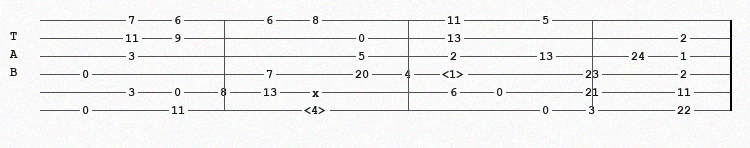0: (82, 68, 93, 80), (82, 104, 93, 116), (174, 86, 185, 98), (358, 32, 369, 44), (496, 86, 507, 98), (542, 104, 553, 116)
1: (680, 50, 691, 62)
11: (125, 32, 143, 44), (171, 104, 189, 116), (447, 14, 465, 26), (677, 86, 695, 98)
13: (263, 86, 281, 98), (447, 32, 465, 44), (539, 50, 557, 62)
2: (450, 50, 461, 62), (680, 32, 691, 44), (680, 68, 691, 80)
20: (355, 68, 373, 80)
21: (585, 86, 603, 98)
22: (677, 104, 695, 116)
23: (585, 68, 603, 80)
24: (631, 50, 649, 62)
3: (128, 86, 139, 98), (128, 50, 139, 62), (588, 104, 599, 116)
4: (404, 68, 415, 80)
5: (358, 50, 369, 62), (542, 14, 553, 26)
6: (174, 14, 185, 26), (266, 14, 277, 26), (450, 86, 461, 98)
7: (128, 14, 139, 26), (266, 68, 277, 80)
8: (220, 86, 231, 98), (312, 14, 323, 26)
9: (174, 32, 185, 44)
harmonic: (304, 104, 331, 116), (442, 68, 469, 80)
x: (312, 87, 323, 97)
